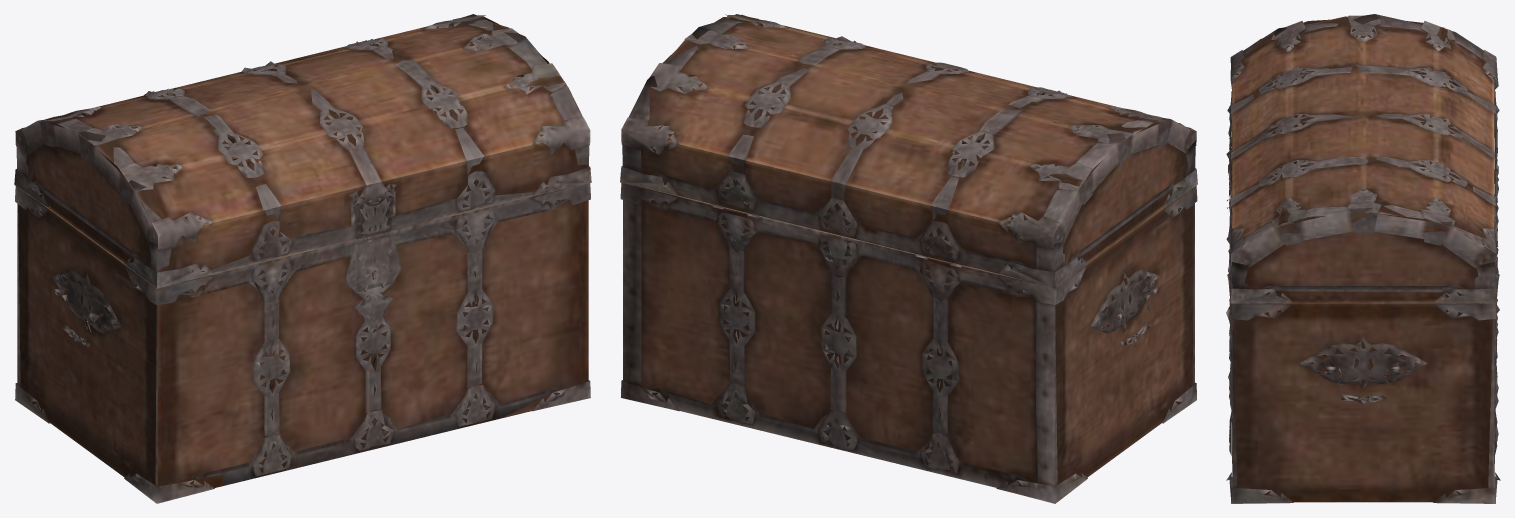
The model's file is prop_chest.glb.
3 renders of one model, left to right at view 1: azimuth 30°, elevation 25°; view 2: azimuth 150°, elevation 25°; view 3: azimuth 270°, elevation 25°, orthographic. The views are drawn at different scales.
Visible parts, largest first — view 1: treasure_chest_bottom; view 2: treasure_chest_bottom; view 3: treasure_chest_bottom.
Part boxes in pixels (x1,y1,x2,y2): treasure_chest_bottom: (14, 14, 591, 503); treasure_chest_bottom: (620, 14, 1197, 503); treasure_chest_bottom: (1226, 14, 1500, 503).
Bounding box in the file's own units: 0.9119 × 0.6 × 0.5058.
1 material, 1 textured.
